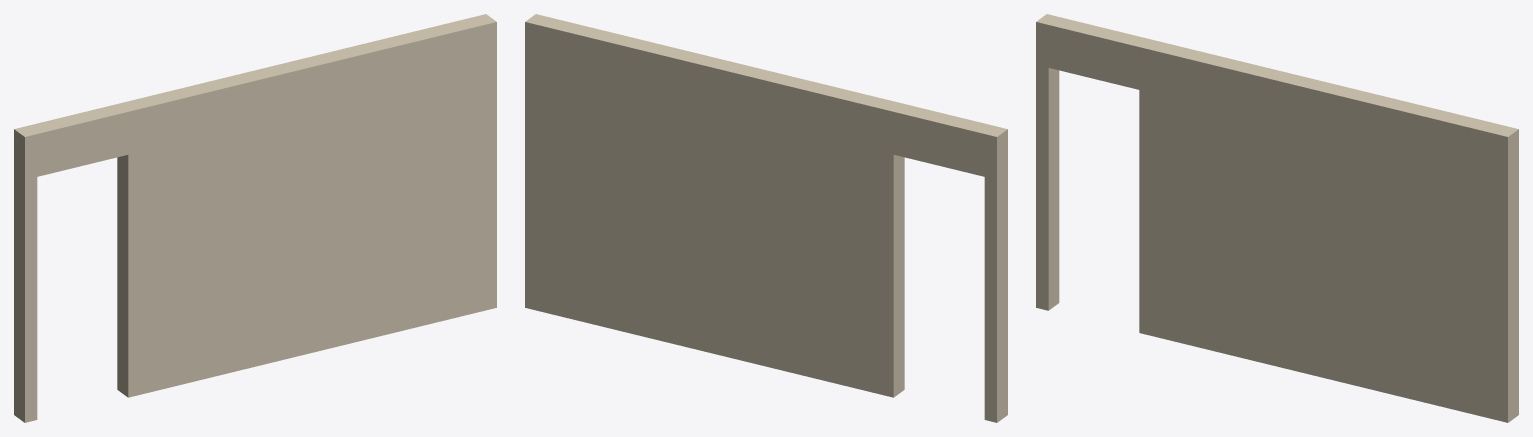
File: wall-15.glb
3 renders of one model, left to right at view 1: azimuth 30°, elevation 25°; view 2: azimuth 150°, elevation 25°; view 3: azimuth 330°, elevation 25°, orthographic.
Bounding box in the file's own units: 13.82 × 8 × 0.547.
